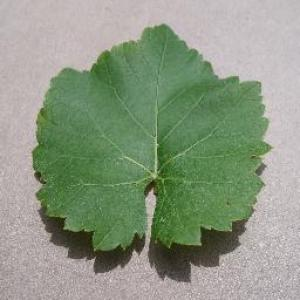Folha: (31, 22, 273, 253)
